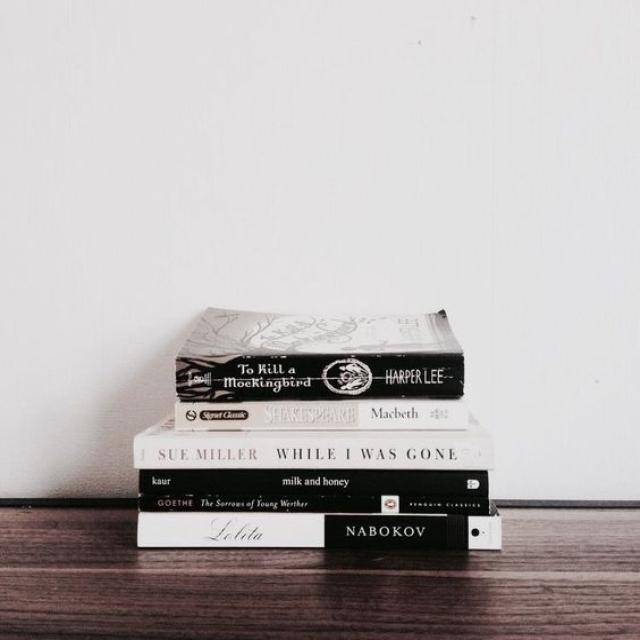book: (176, 353, 463, 401), (137, 514, 504, 548), (134, 438, 494, 468), (176, 402, 468, 430), (136, 470, 490, 493), (135, 493, 488, 514)
